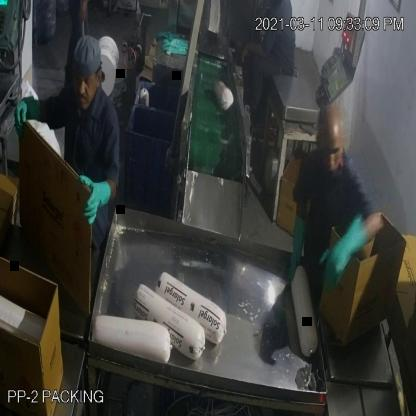glove: (316, 212, 372, 302), (73, 156, 124, 227), (281, 212, 314, 286)
no_glove: (233, 33, 268, 70)
